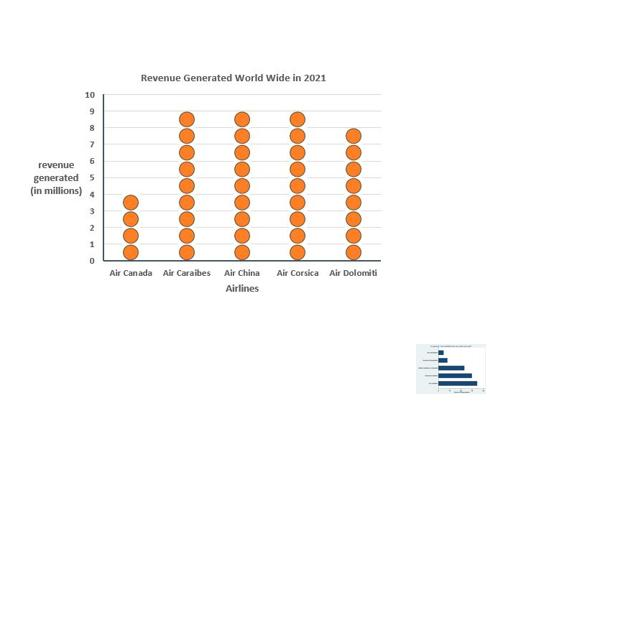Graph: (28, 69, 383, 296), (416, 344, 486, 394)
